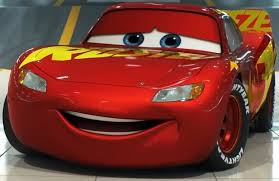mcqueen: (1, 1, 277, 172)
